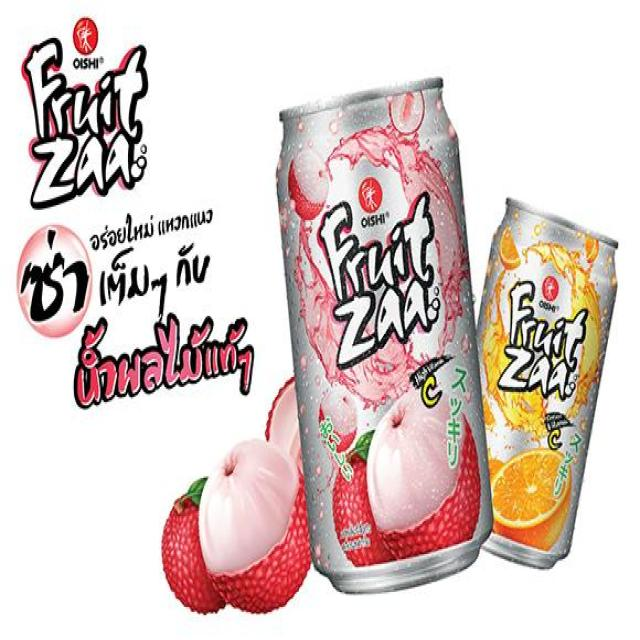can: (272, 71, 492, 597), (475, 196, 619, 571)
